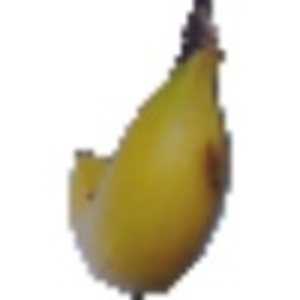banana: (59, 6, 234, 295)
